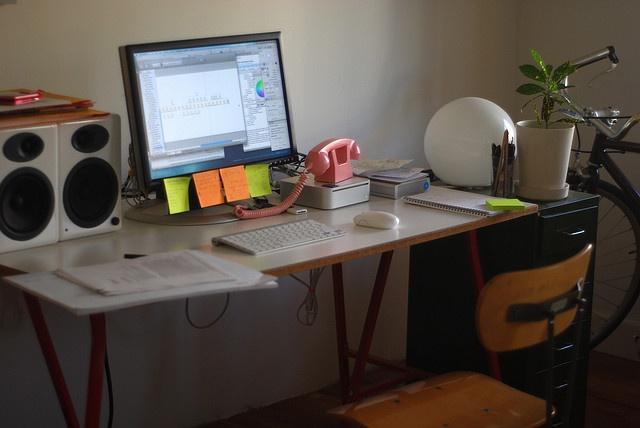AIO PC-Monitor-TV: (118, 29, 299, 194)
Kursi: (326, 243, 594, 427)
Meja: (0, 181, 540, 321)
